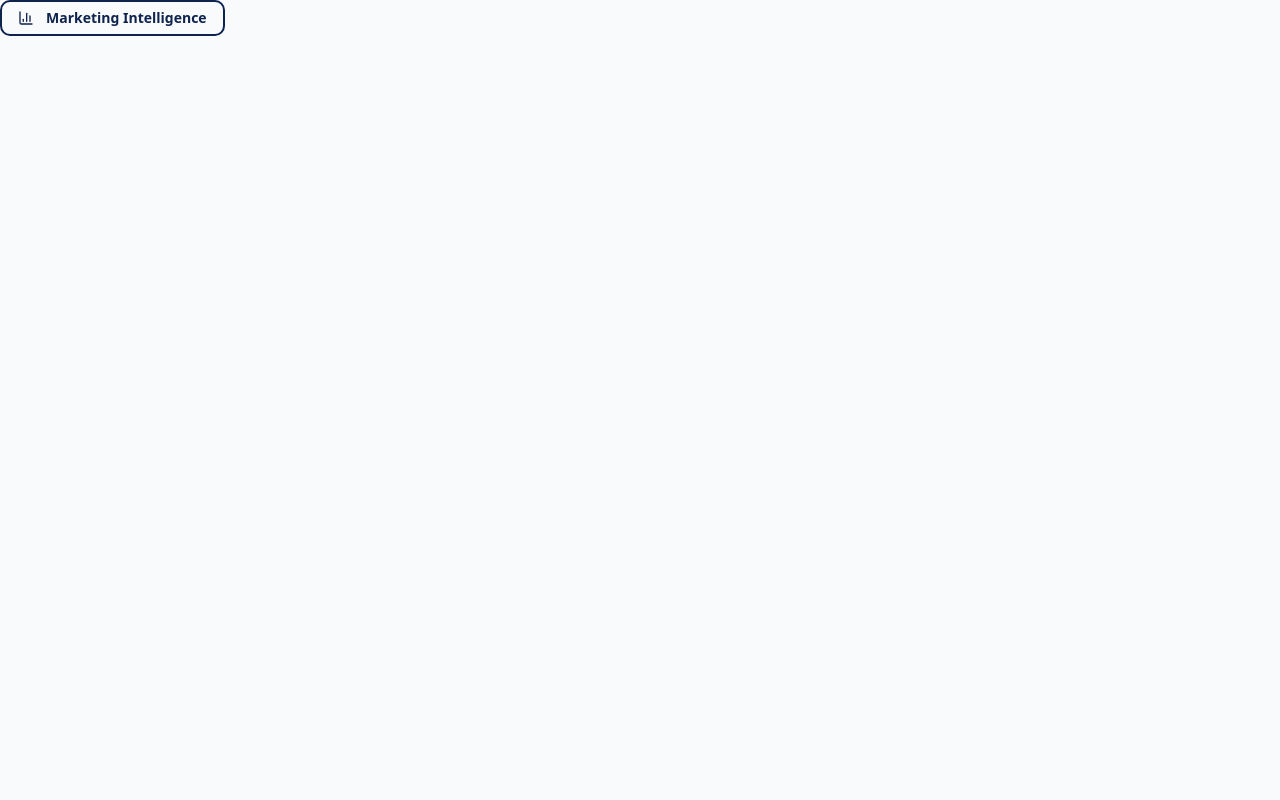
Test: Marketing Intelligence saved analysis access › asks for offer type only when the product has no saved analysis
Step 1. Click the button "Marketing Intelligence" → (112, 18), box [0,0,225,36]
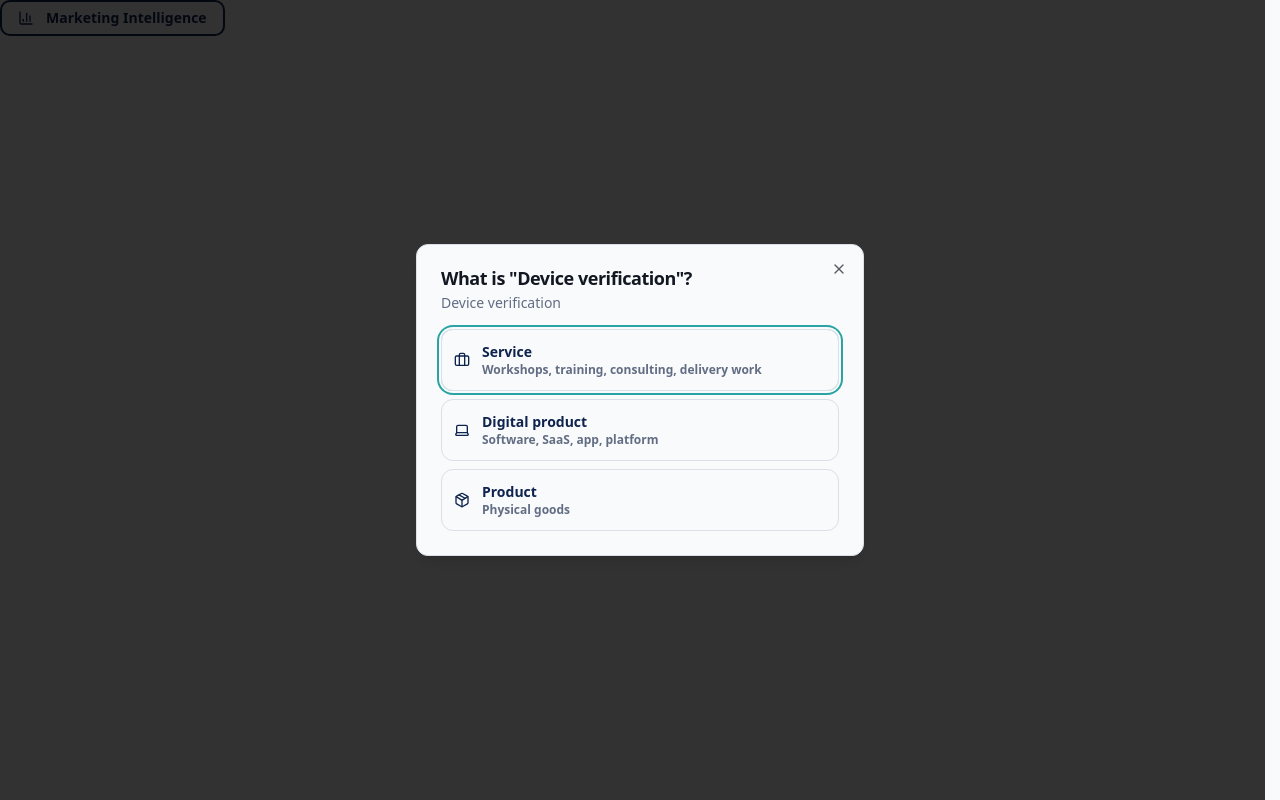
Check: the dialog is shown, box [416,244,864,556]
